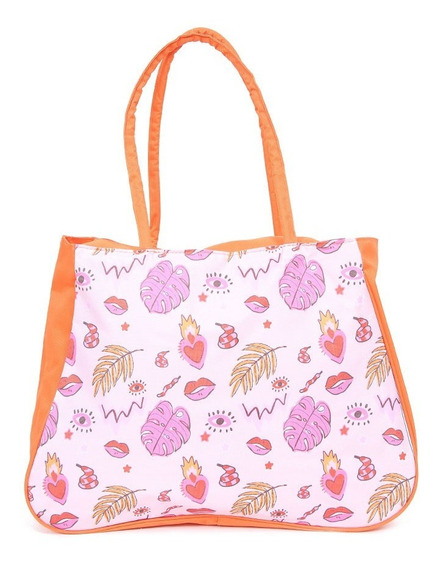cartera: (25, 27, 419, 533)
